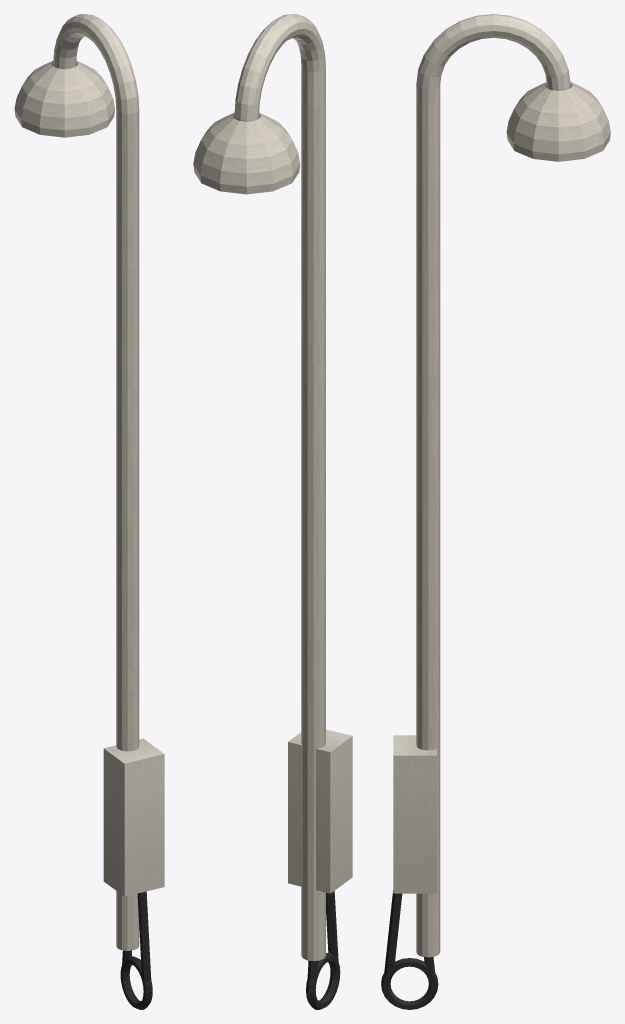
Rendered from miovision_360_tall_inv.obj.
3 views of the same model, side by side, from view 1: azimuth 30°, elevation 25°; view 2: azimuth 150°, elevation 25°; view 3: azimuth 270°, elevation 25° (orthographic). The views are drawn at different scales.
Visible parts, largest first — view 1: miovision360; view 2: miovision360; view 3: miovision360.
Part boxes in pixels (x1,y1,x2,y2): miovision360: (14, 14, 164, 1009); miovision360: (193, 14, 352, 1009); miovision360: (381, 14, 610, 1009).
Size of the model in its own units: 0.48 by 5.05 by 1.06.
